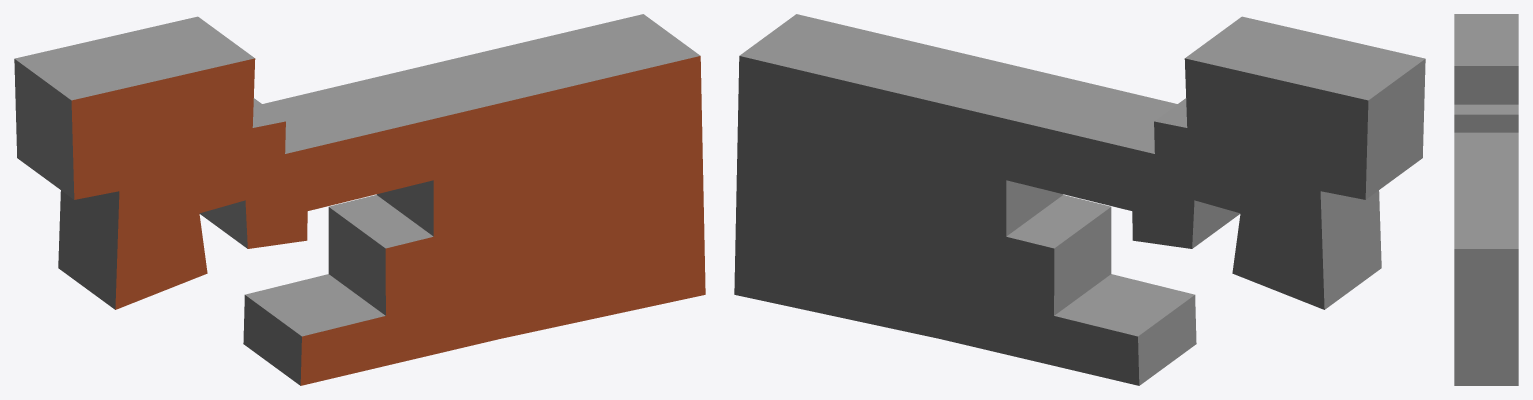
Rendered from construction_2542_assumed_A_Casa_h6m.obj.
3 renders of one model, left to right at view 1: azimuth 30°, elevation 25°; view 2: azimuth 150°, elevation 25°; view 3: azimuth 270°, elevation 25°, orthographic. The views are drawn at different scales.
Parts seen in each view (by area): view 1: construction_2542_assumed_A_Casa; view 2: construction_2542_assumed_A_Casa; view 3: construction_2542_assumed_A_Casa.
Boxes of the visible parts, x1,y1,x2,y2 form: construction_2542_assumed_A_Casa: [14, 14, 705, 385]; construction_2542_assumed_A_Casa: [734, 14, 1425, 385]; construction_2542_assumed_A_Casa: [1454, 14, 1518, 385].
Bounding box in the file's own units: 38.41 × 20.2 × 6.
